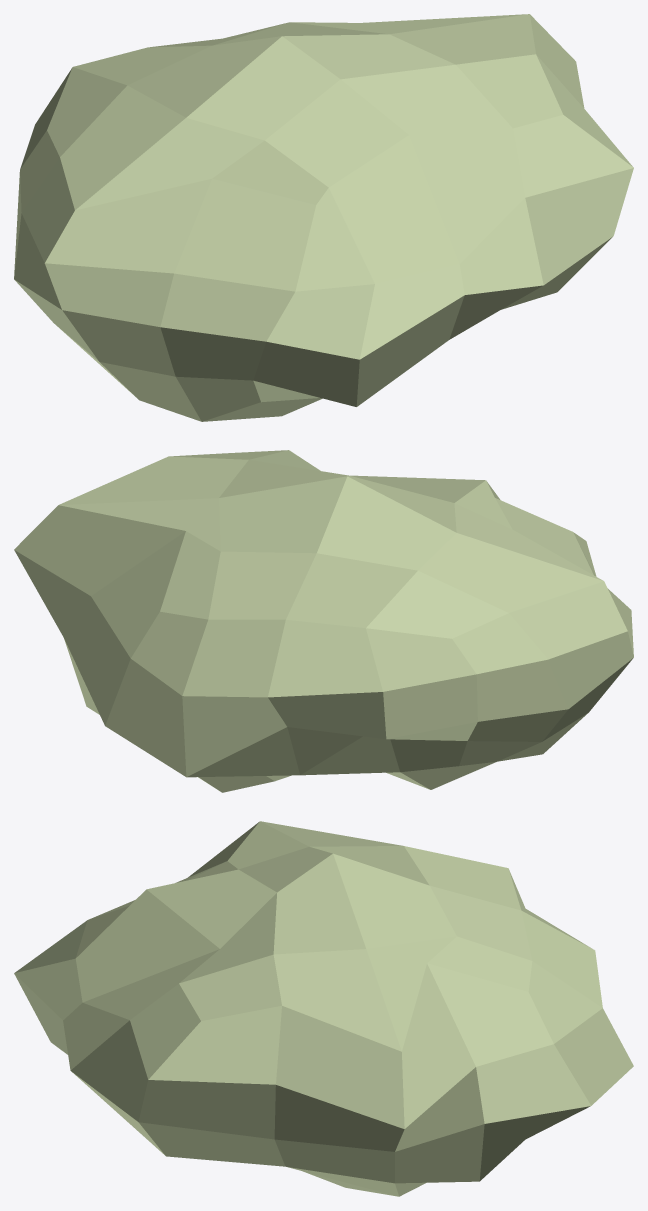
File: Rock2.fbx
The picture shows the model from 3 angles, top to bottom: view 1: azimuth 30°, elevation 25°; view 2: azimuth 150°, elevation 25°; view 3: azimuth 270°, elevation 25°; orthographic projection. The views are drawn at different scales.
Parts seen in each view (by area): view 1: rock2; view 2: rock2; view 3: rock2.
Boxes of the visible parts, box(x1,y1,x2,y2) form: rock2: box(14, 14, 633, 421); rock2: box(14, 450, 633, 792); rock2: box(14, 821, 633, 1196).
Size of the model in its own units: 1039 by 505 by 989.
